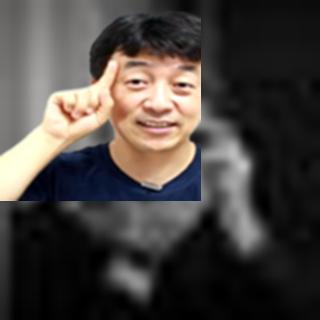IRRITATED: (39, 56, 122, 143)
